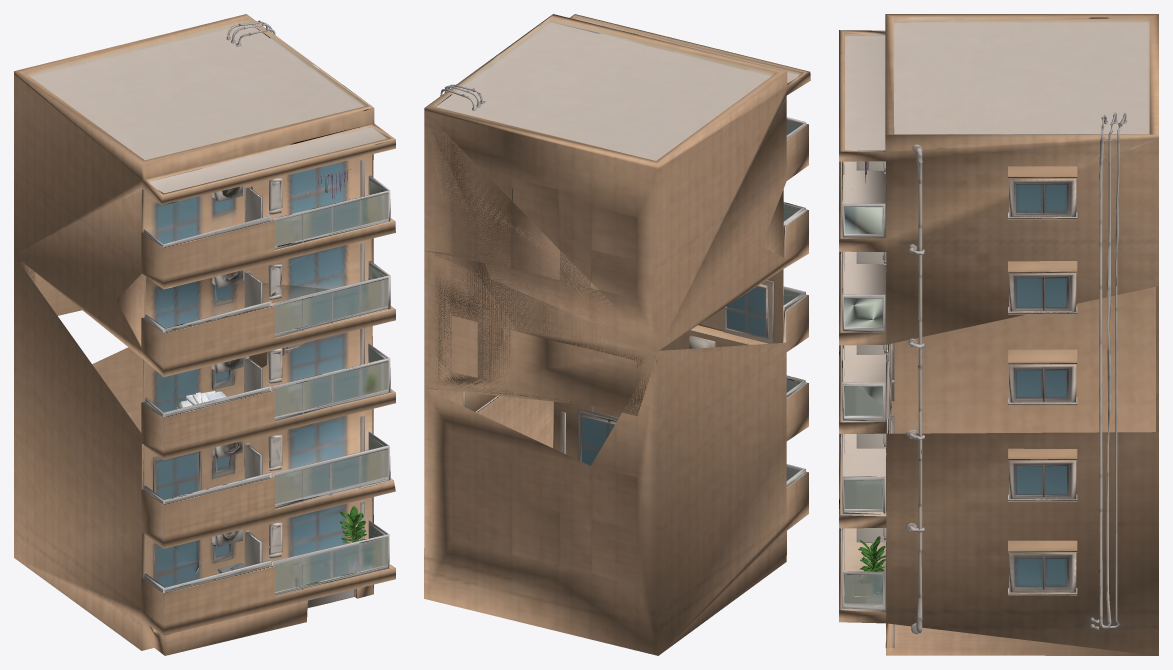
File: apartment.glb
3 renders of one model, left to right at view 1: azimuth 30°, elevation 25°; view 2: azimuth 150°, elevation 25°; view 3: azimuth 270°, elevation 25°, orthographic. The views are drawn at different scales.
Parts seen in each view (by area): view 1: geometry_0; view 2: geometry_0; view 3: geometry_0.
Part boxes in pixels (x1,y1,x2,y2): geometry_0: (14, 14, 395, 655); geometry_0: (424, 14, 810, 655); geometry_0: (839, 14, 1158, 655).
Size of the model in its own units: 0.4917 by 0.9507 by 0.5186.
Materials: 1 (1 with a texture image).
